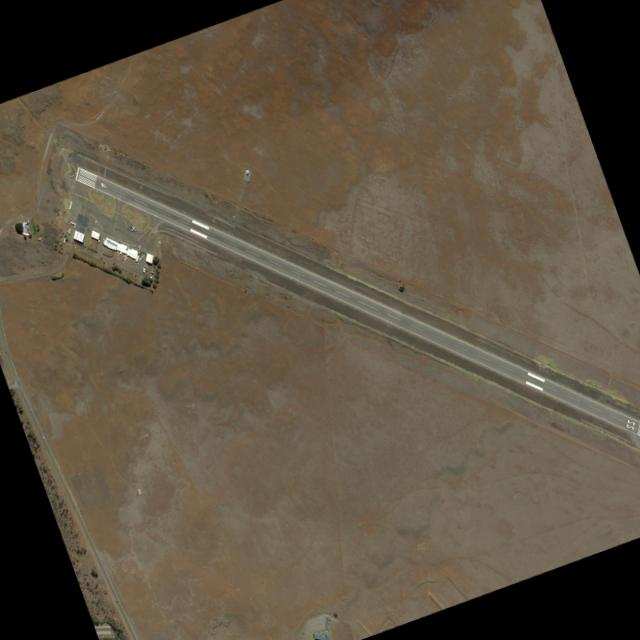large-vehicle: (142, 266, 146, 269), (149, 275, 152, 278), (142, 269, 145, 272), (150, 270, 153, 273)
plane: (128, 222, 138, 233), (93, 218, 97, 225), (137, 243, 141, 250), (88, 221, 91, 226)
small-vehicle: (115, 599, 118, 603), (328, 618, 331, 621), (42, 436, 45, 439), (30, 408, 32, 412), (5, 350, 7, 353), (26, 221, 29, 223), (27, 219, 29, 222), (108, 249, 110, 252), (107, 253, 110, 255), (328, 621, 330, 624), (146, 267, 148, 269), (146, 270, 148, 272), (137, 262, 139, 264), (64, 218, 65, 221)
storage-tank: (245, 169, 250, 174)
